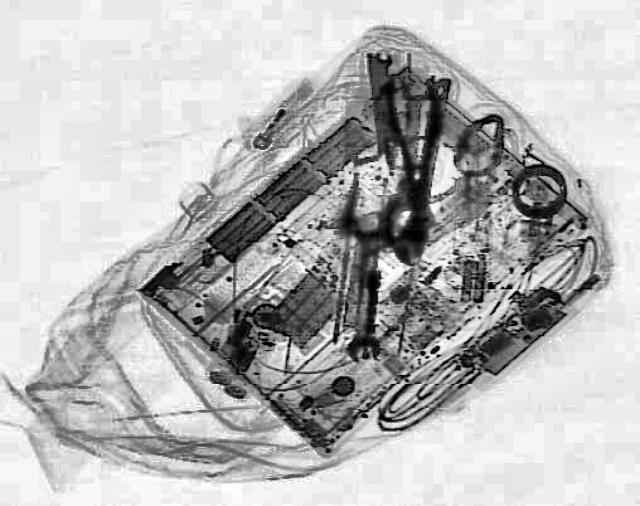Wrench: (346, 209, 384, 360)
